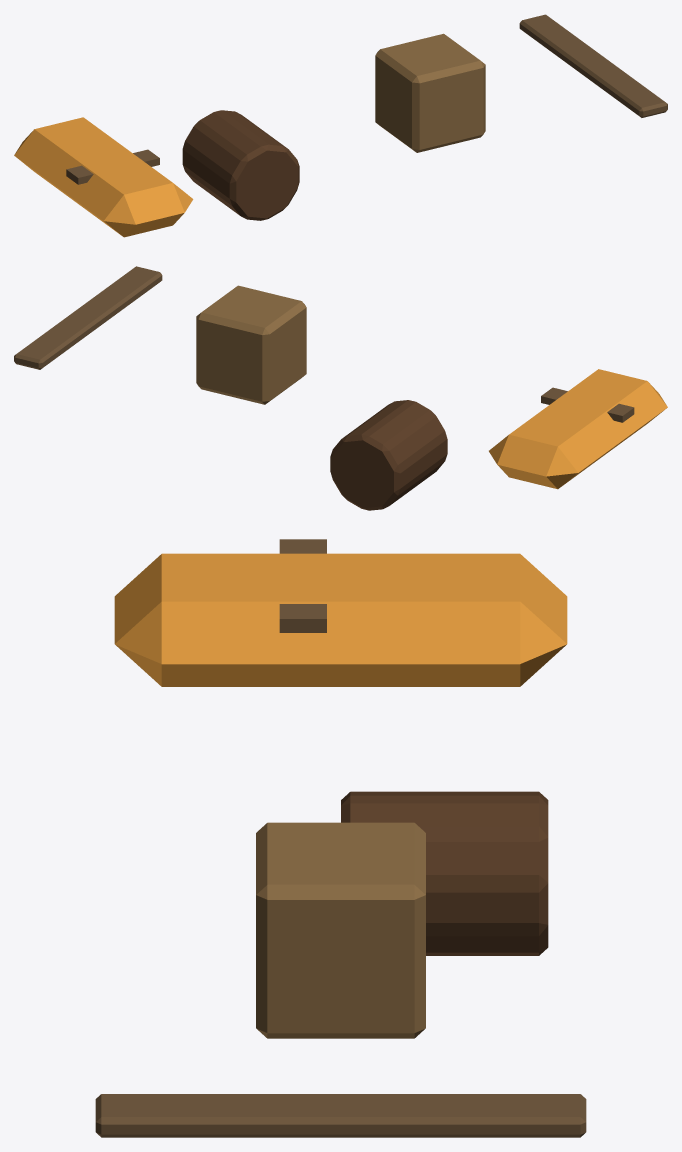
The model's file is debris.fbx.
3 renders of one model, top to bottom at view 1: azimuth 30°, elevation 25°; view 2: azimuth 150°, elevation 25°; view 3: azimuth 270°, elevation 25°, orthographic. The views are drawn at different scales.
Visible parts, largest first — view 1: BoatBody, debris_crate, debris_barrel, debris_plank; view 2: BoatBody, debris_crate, debris_barrel, debris_plank; view 3: BoatBody, debris_crate, debris_barrel, debris_plank.
Part boxes in pixels (x1,y1,x2,y2): BoatBody: (14,117,193,237); debris_crate: (375,33,485,152); debris_barrel: (182,110,299,220); debris_plank: (519,14,667,117); BoatBody: (489,369,667,489); debris_crate: (196,285,306,404); debris_barrel: (330,400,447,510); debris_plank: (14,266,162,369); BoatBody: (114,539,567,686); debris_crate: (256,822,425,1038); debris_barrel: (341,791,548,955); debris_plank: (95,1094,586,1137).
Bounding box in the file's own units: 6.73 × 1.48 × 2.6.
